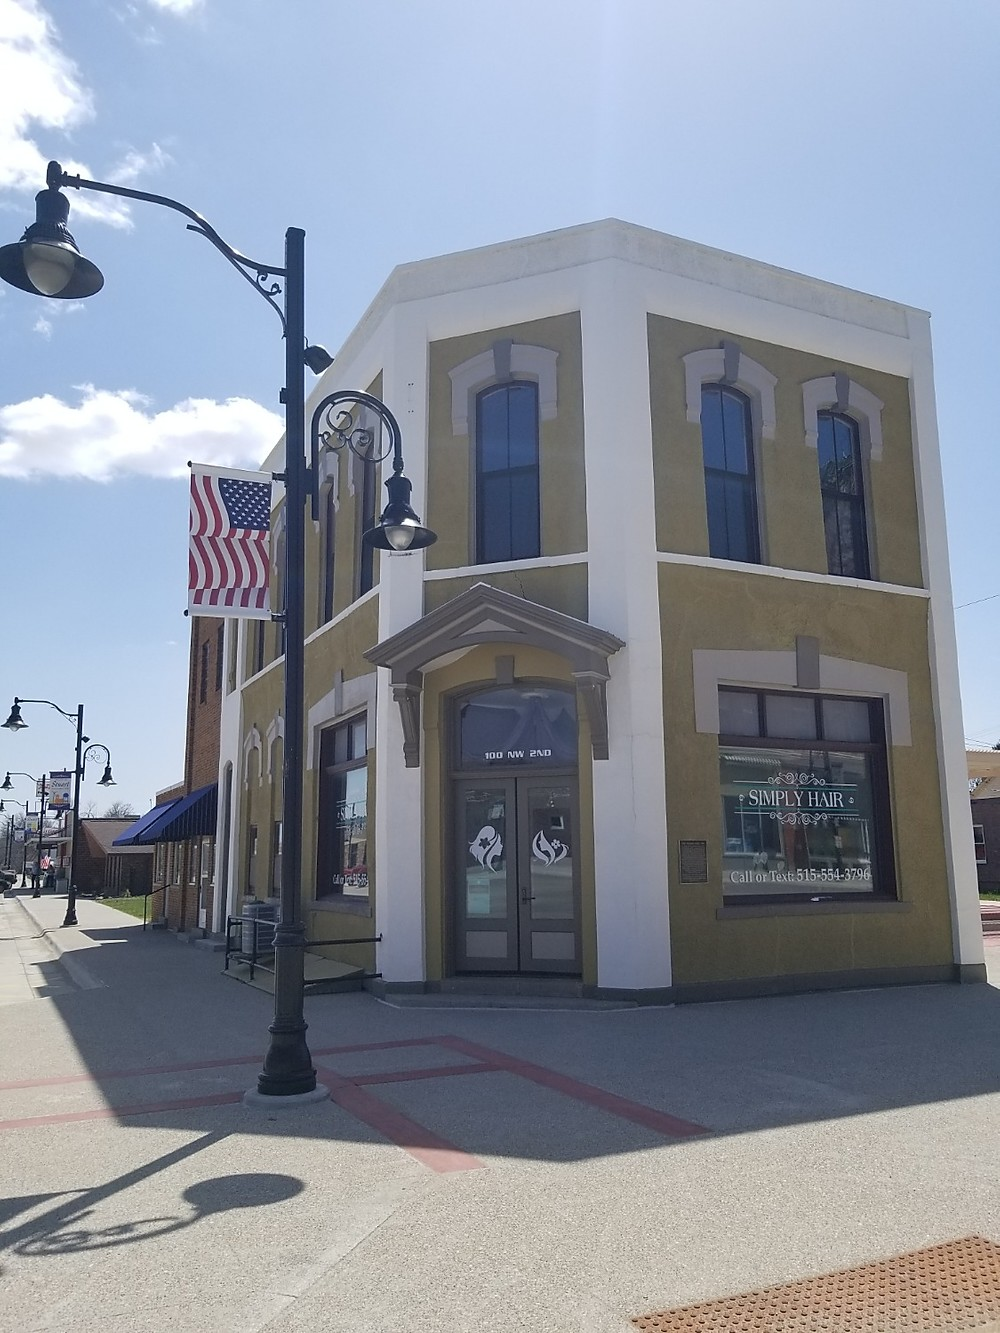pole: (1, 108, 456, 1142), (2, 673, 141, 940)
